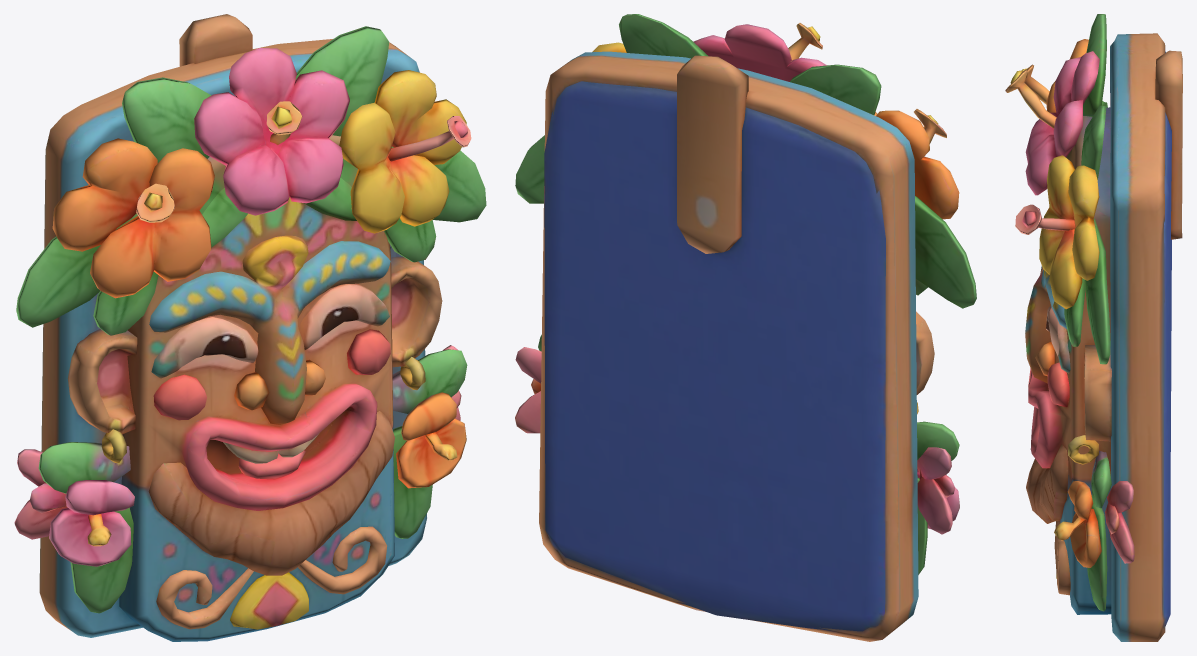
The model's file is surf-tiki-mask.glb.
The picture shows the model from 3 angles, left to right: view 1: azimuth 30°, elevation 25°; view 2: azimuth 150°, elevation 25°; view 3: azimuth 270°, elevation 25°; orthographic projection. The views are drawn at different scales.
Parts seen in each view (by area): view 1: geometry_0; view 2: geometry_0; view 3: geometry_0.
Boxes of the visible parts, box(x1,y1,x2,y2) form: geometry_0: box(14, 14, 486, 641); geometry_0: box(515, 14, 976, 641); geometry_0: box(1005, 14, 1182, 641).
Bounding box in the file's own units: 0.8512 × 1 × 0.3062.
1 material, 1 textured.
